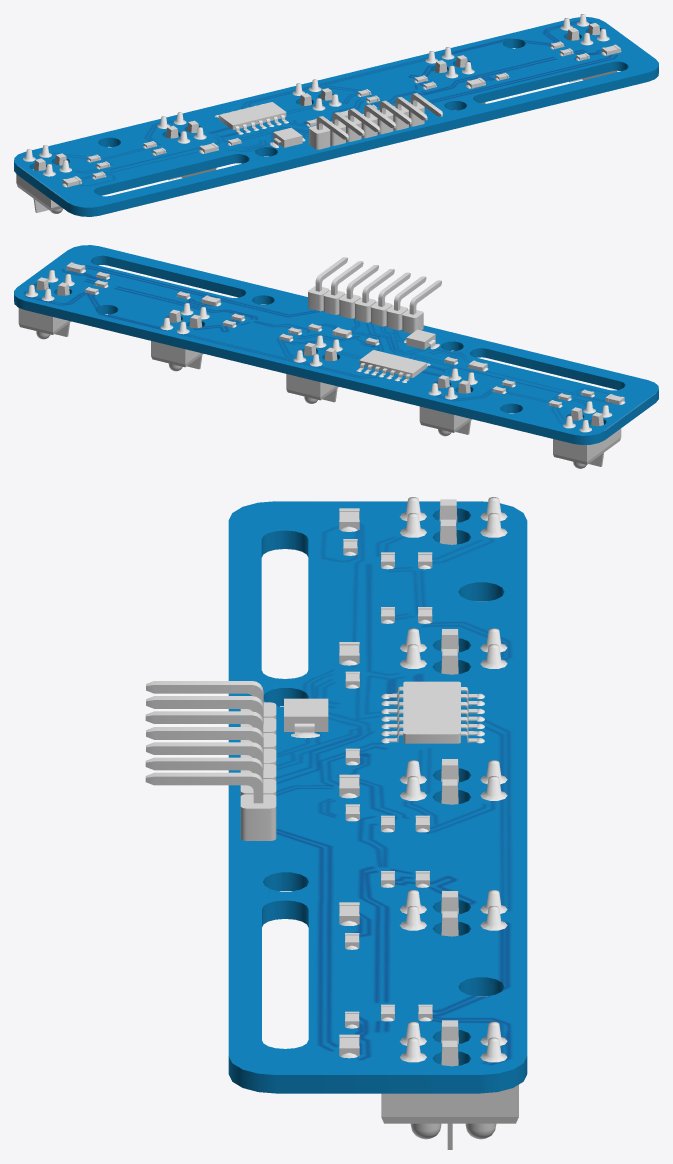
Rendered from IR sensor Array.fbx.
3 views of the same model, one above another, from view 1: azimuth 30°, elevation 25°; view 2: azimuth 150°, elevation 25°; view 3: azimuth 270°, elevation 25° (orthographic). The views are drawn at different scales.
Parts seen in each view (by area): view 1: board, parts, berg sticks, Object, soldering; view 2: board, Object, berg sticks, parts, soldering, blue led; view 3: board, berg sticks, parts, Object, soldering.
Boxes of the visible parts, x1=… form: board: x1=14, y1=17, x2=658, y2=216; parts: x1=62, y1=41, x2=621, y2=187; berg sticks: x1=309, y1=93, x2=442, y2=149; Object: x1=16, y1=23, x2=617, y2=212; soldering: x1=23, y1=14, x2=609, y2=176; board: x1=14, y1=245, x2=658, y2=444; Object: x1=18, y1=277, x2=621, y2=466; berg sticks: x1=308, y1=257, x2=441, y2=333; parts: x1=66, y1=262, x2=625, y2=407; soldering: x1=25, y1=270, x2=612, y2=432; blue led: x1=36, y1=331, x2=586, y2=468; board: x1=228, y1=501, x2=527, y2=1093; berg sticks: x1=145, y1=681, x2=276, y2=840; parts: x1=284, y1=508, x2=484, y2=1058; Object: x1=381, y1=499, x2=518, y2=1149; soldering: x1=399, y1=497, x2=507, y2=1062.
Size of the model in its own units: 5.68 by 0.6861 by 1.6.
